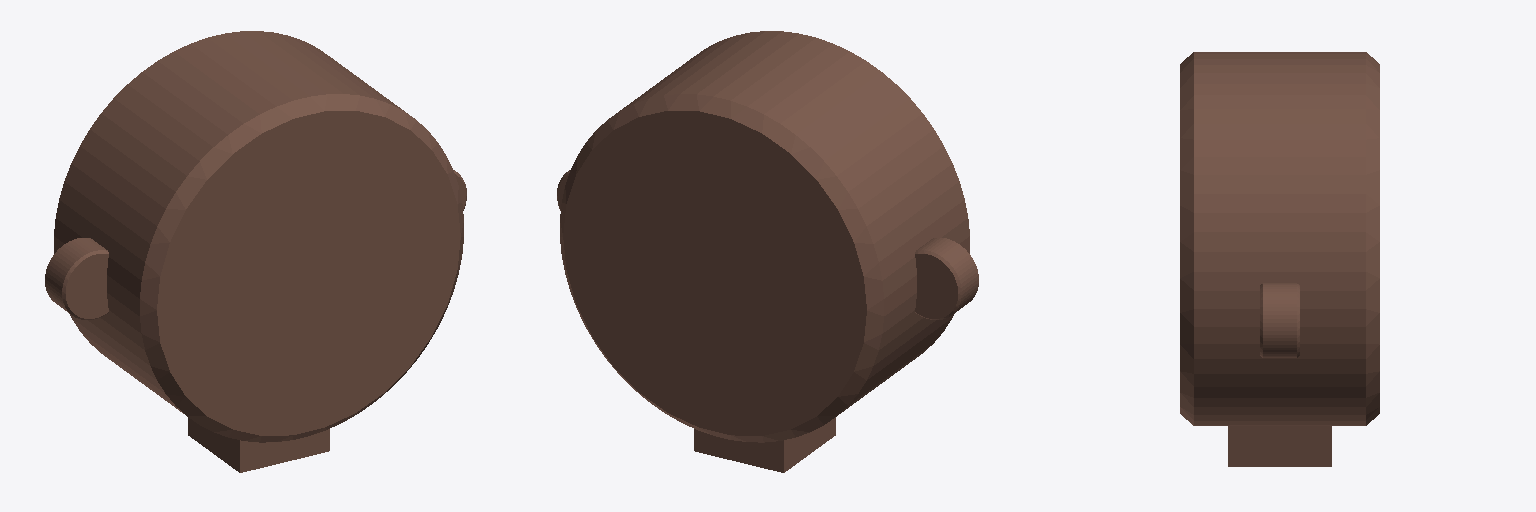
File: head.obj
3 views of the same model, side by side, from view 1: azimuth 30°, elevation 25°; view 2: azimuth 150°, elevation 25°; view 3: azimuth 270°, elevation 25° (orthographic).
Parts seen in each view (by area): view 1: pCylinder13 polySurface26, polySurface18 pCylinder13, polySurface17 polySurface2; view 2: pCylinder13 polySurface26, polySurface18 pCylinder13, polySurface17 polySurface2; view 3: pCylinder13 polySurface26, polySurface17 polySurface2, pCylinder13 polySurface25.
Part boxes in pixels (bbox=[...]): pCylinder13 polySurface26: bbox=[54, 31, 463, 442]; polySurface18 pCylinder13: bbox=[45, 238, 108, 319]; polySurface17 polySurface2: bbox=[188, 417, 329, 472]; pCylinder13 polySurface26: bbox=[560, 31, 969, 442]; polySurface18 pCylinder13: bbox=[915, 238, 978, 319]; polySurface17 polySurface2: bbox=[694, 417, 835, 472]; pCylinder13 polySurface26: bbox=[1180, 52, 1379, 425]; polySurface17 polySurface2: bbox=[1228, 426, 1331, 466]; pCylinder13 polySurface25: bbox=[1260, 283, 1299, 357].
Size of the model in its own units: 2.99 by 2.66 by 1.28.